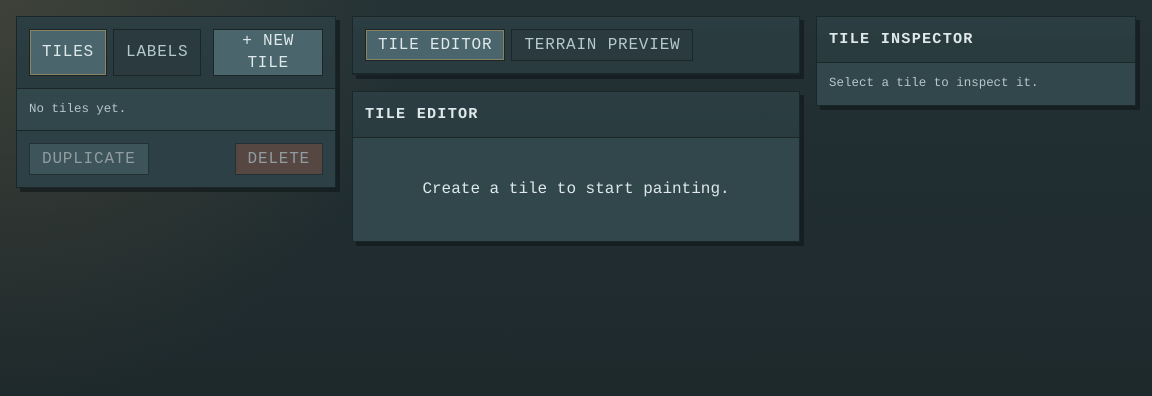
it: Stage 1 editor UI › switches between tile and label editors inside the shared library panel
The width and height of the screenshot is (1152, 396).
Expected: the button "+ New Tile" is shown, [213,29,323,76]
Step 1. Click the tab "Labels" → (157, 52), box [113,29,201,76]
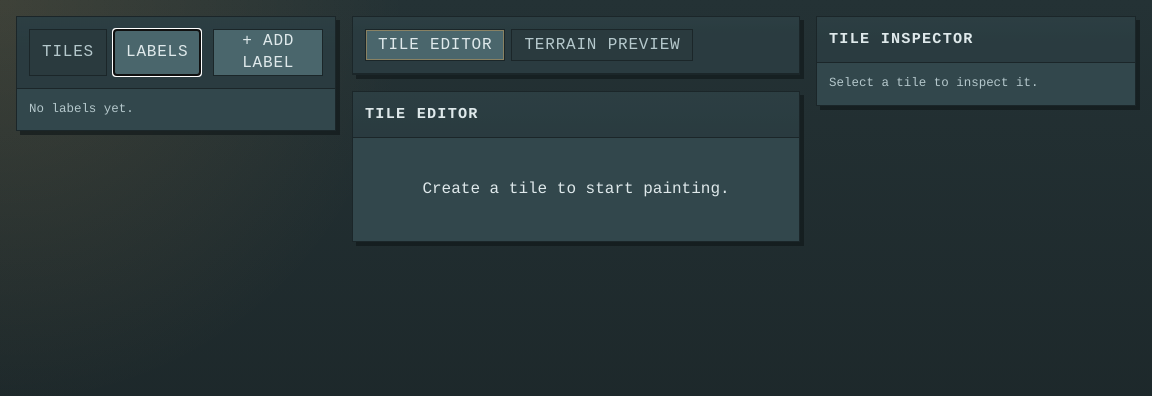
Now the button "+ Add Label" is shown
Now the panel "No labels yet." is shown, box [29,102,134,116]
Step 2. Click the button "+ Add Label" → (268, 52), box [213,29,323,76]
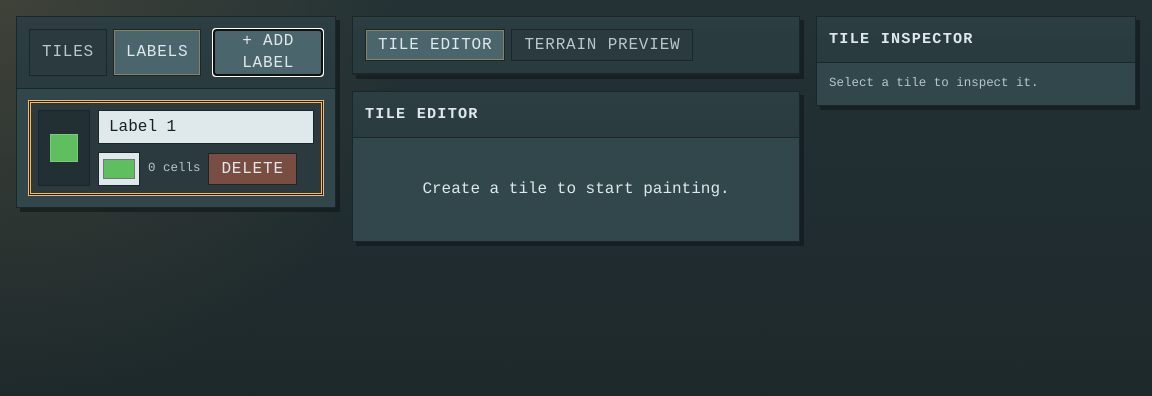
Now the field named "name for label_" is shown, box [98,110,314,144]
